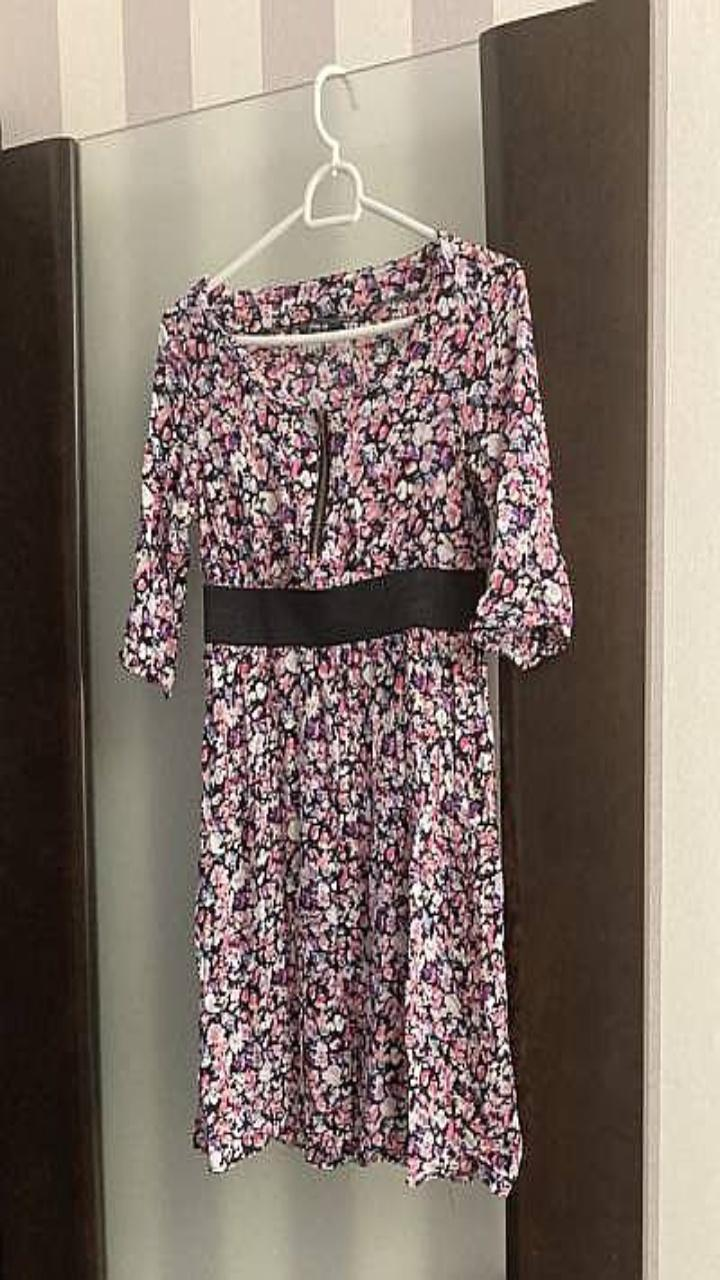Dresses: (119, 230, 572, 1195)
